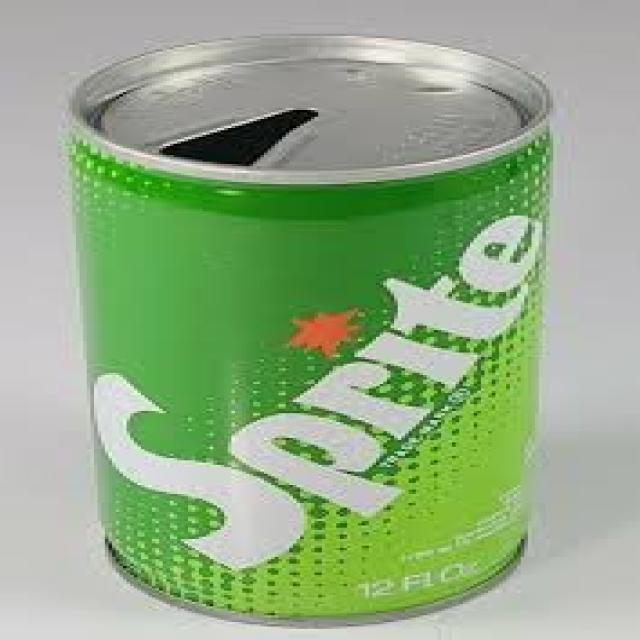aluminum_can: (69, 36, 553, 623)
